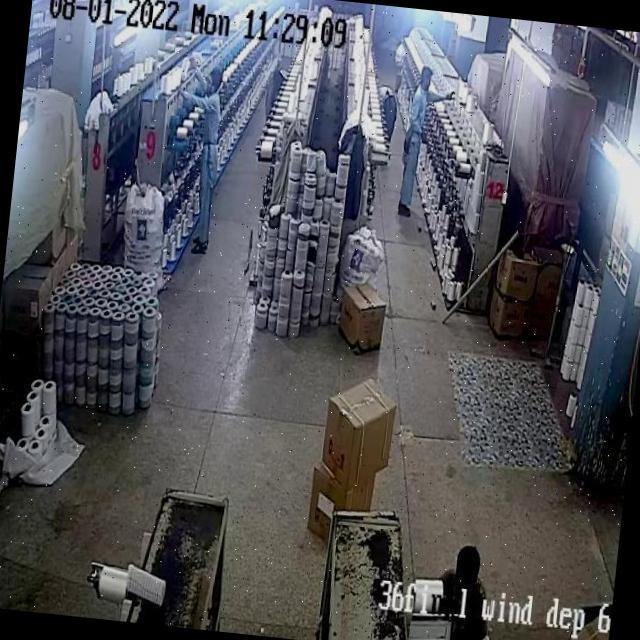person: (184, 70, 234, 241), (398, 68, 435, 212), (450, 533, 489, 640)
